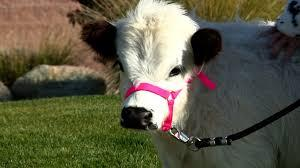cow: (83, 0, 300, 168)
